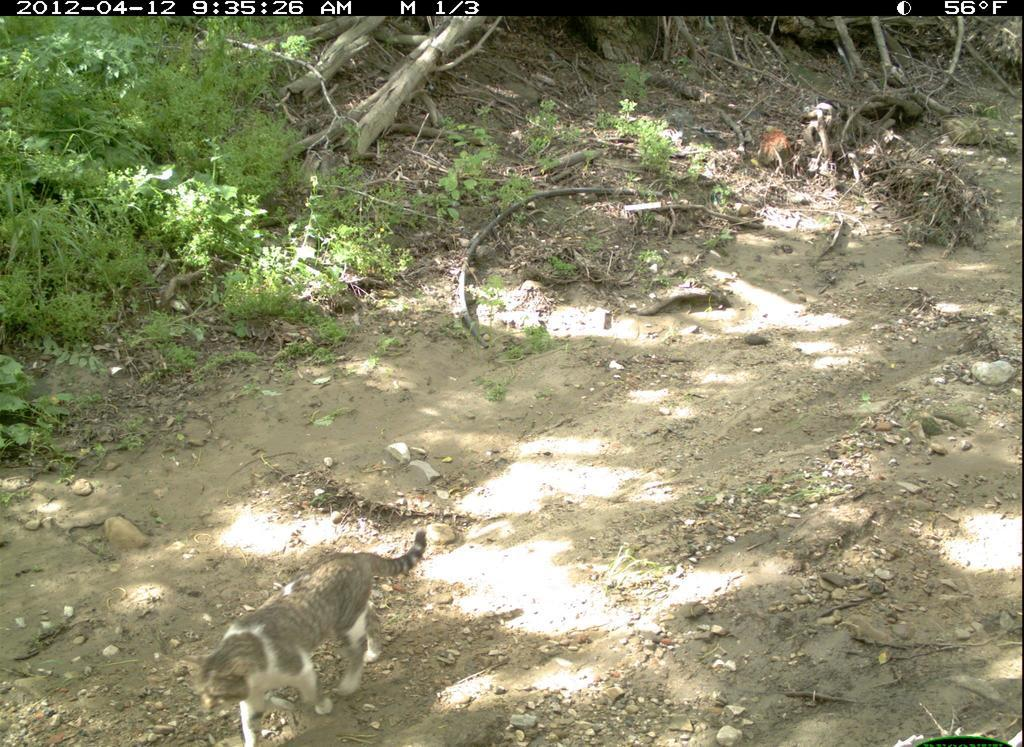cat: (185, 513, 440, 744)
